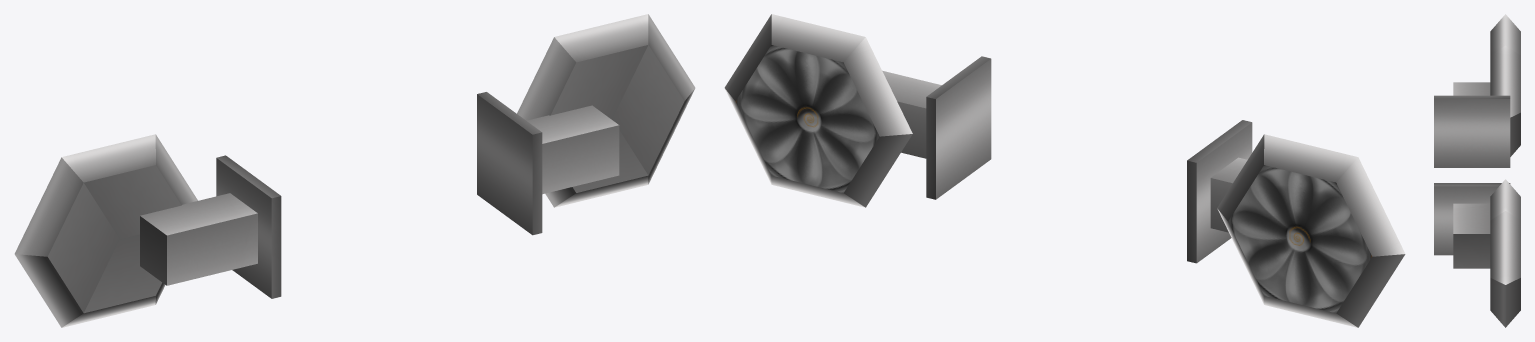
Rendered from Fans_Starter.fbx.
3 views of the same model, side by side, from view 1: azimuth 30°, elevation 25°; view 2: azimuth 150°, elevation 25°; view 3: azimuth 270°, elevation 25° (orthographic). The views are drawn at different scales.
Parts seen in each view (by area): view 1: polySurface85; view 2: polySurface85; view 3: polySurface85.
Part boxes in pixels (<box>): polySurface85: <box>14,14,695,327</box>; polySurface85: <box>724,14,1405,327</box>; polySurface85: <box>1434,14,1520,327</box>.
Size of the model in its own units: 1.42 by 0.3394 by 0.2273.
